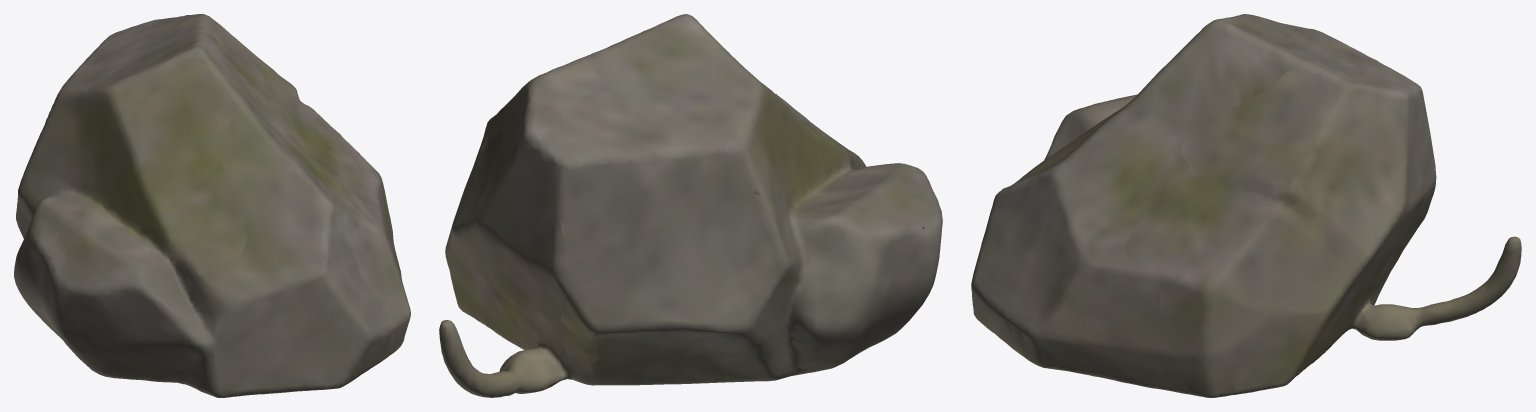
File: rock_formation_01_lod0.glb
The picture shows the model from 3 angles, left to right: view 1: azimuth 30°, elevation 25°; view 2: azimuth 150°, elevation 25°; view 3: azimuth 270°, elevation 25°; orthographic projection. The views are drawn at different scales.
Visible parts, largest first — view 1: candidate_017_lod0; view 2: candidate_017_lod0; view 3: candidate_017_lod0.
Boxes of the visible parts, x1,y1,x2,y2 form: candidate_017_lod0: (14,14,410,397); candidate_017_lod0: (439,14,942,397); candidate_017_lod0: (971,14,1521,397).
Bounding box in the file's own units: 0.1192 × 0.0836 × 0.1456.
1 material, 1 textured.
